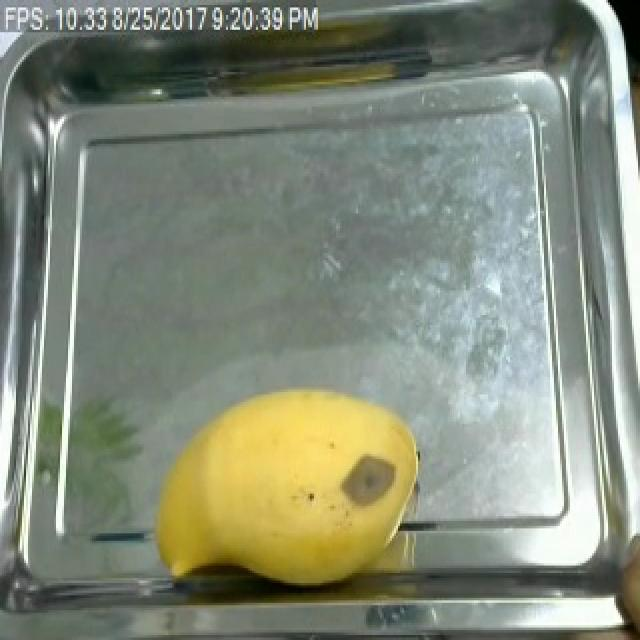fruit: (136, 372, 430, 603)
